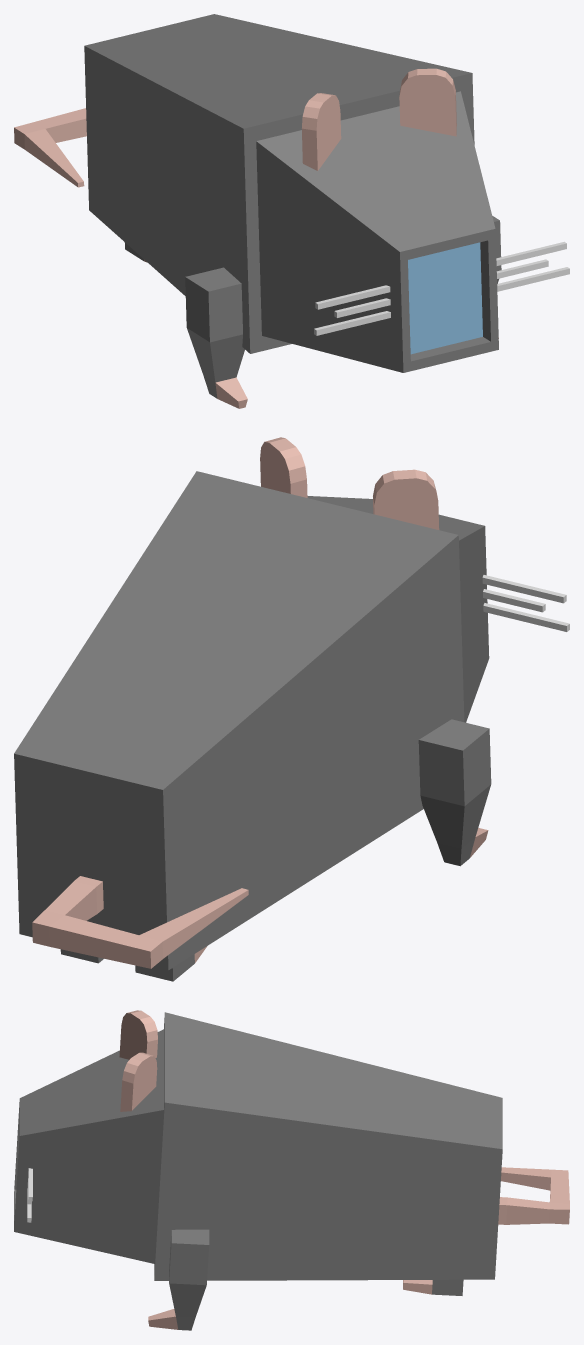
Rendered from J_LigthEmisor.fbx.
3 views of the same model, one above another, from view 1: azimuth 30°, elevation 25°; view 2: azimuth 150°, elevation 25°; view 3: azimuth 270°, elevation 25° (orthographic). The views are drawn at different scales.
Parts seen in each view (by area): view 1: Cube.024; view 2: Cube.024; view 3: Cube.024.
Boxes of the visible parts, x1,y1,x2,y2 form: Cube.024: [14, 14, 569, 408]; Cube.024: [14, 437, 569, 981]; Cube.024: [14, 1010, 569, 1330].
Size of the model in its own units: 89.38 by 87.85 by 182.
